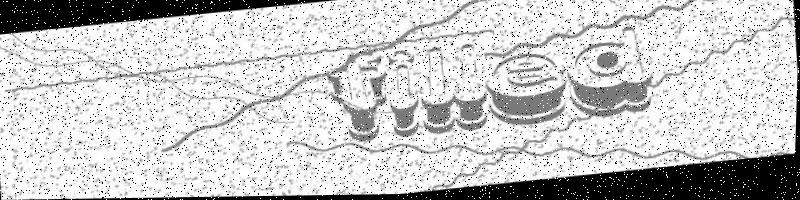d: (564, 25, 657, 122)
e: (484, 49, 572, 131)
f: (324, 49, 394, 148)
i: (385, 49, 424, 140)
l: (416, 46, 460, 138), (449, 42, 492, 135)
